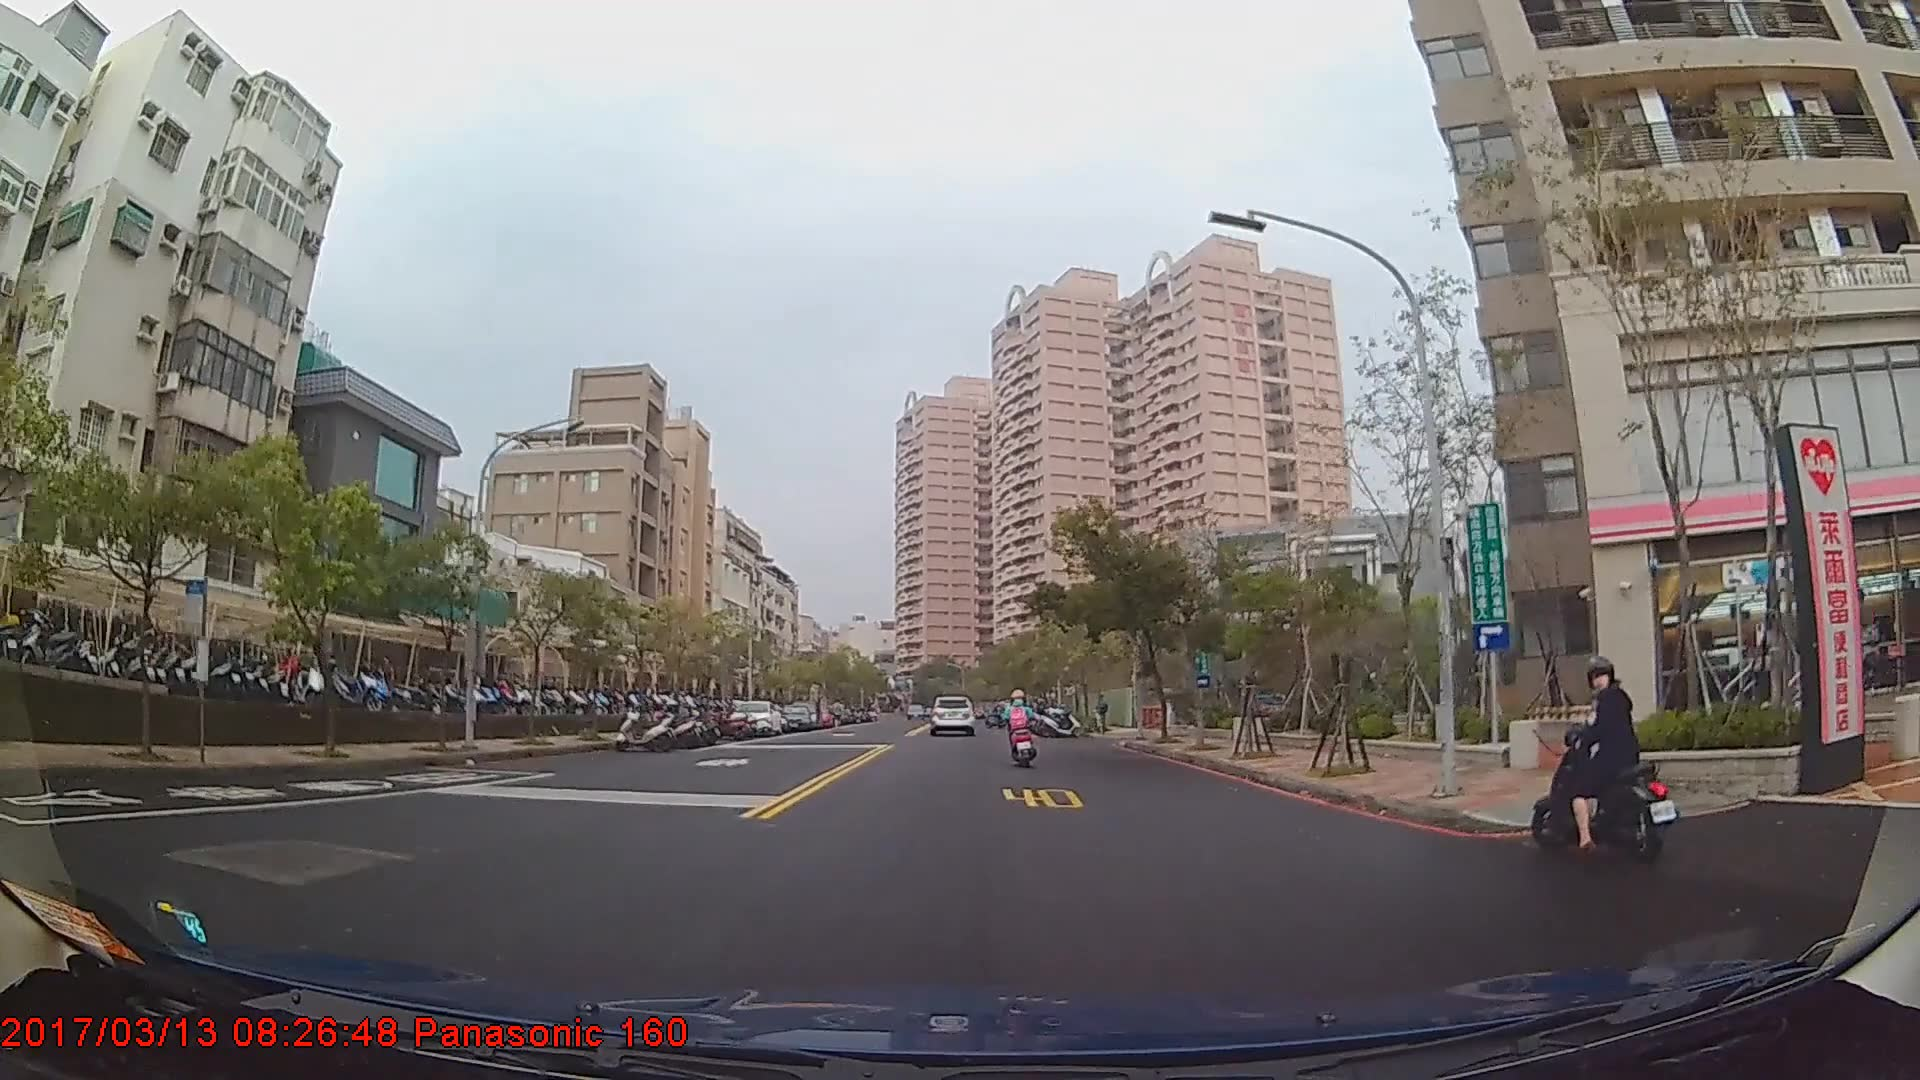rider: (1531, 641, 1690, 853), (1004, 690, 1040, 768)
vehicle: (726, 696, 784, 733), (927, 692, 978, 733), (779, 701, 812, 730)
